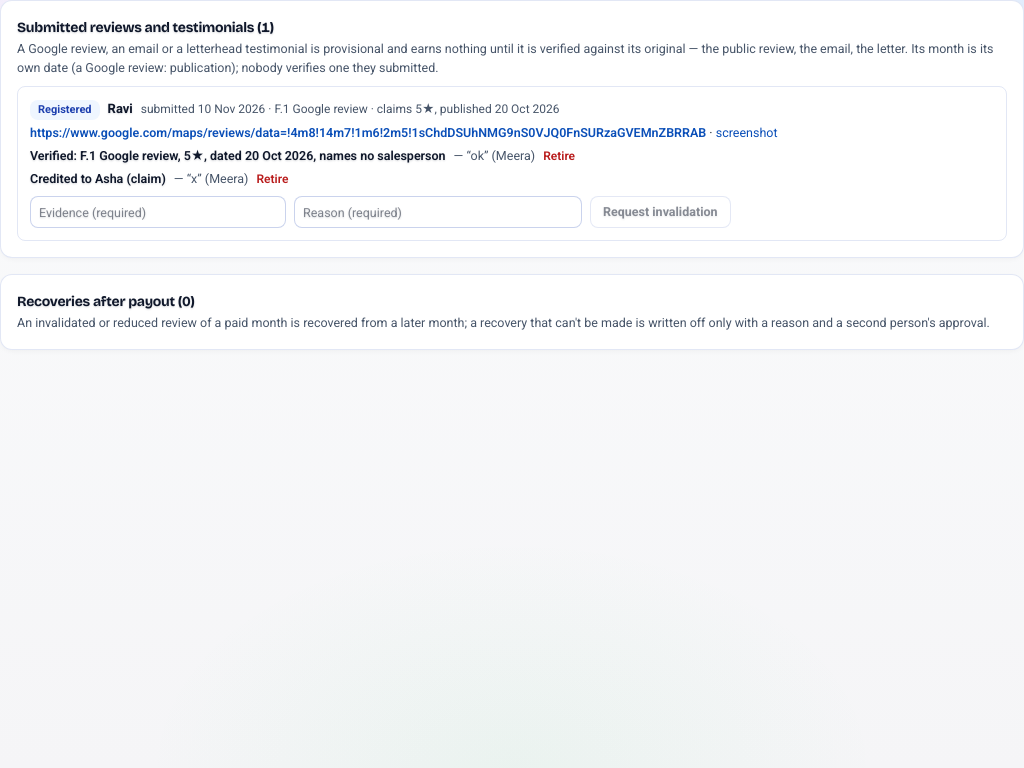
Test: Category F review screen: refusals (a right missing or removed after the page opened) › invalidation request and decision refused: message shown, buttons usable again, reason and evidence kept
Later steps or results of the test are not shown.
In the field with placeholder "Evidence (required)": (158, 212) [30,196,286,228], type "https://files.example/removed.png"
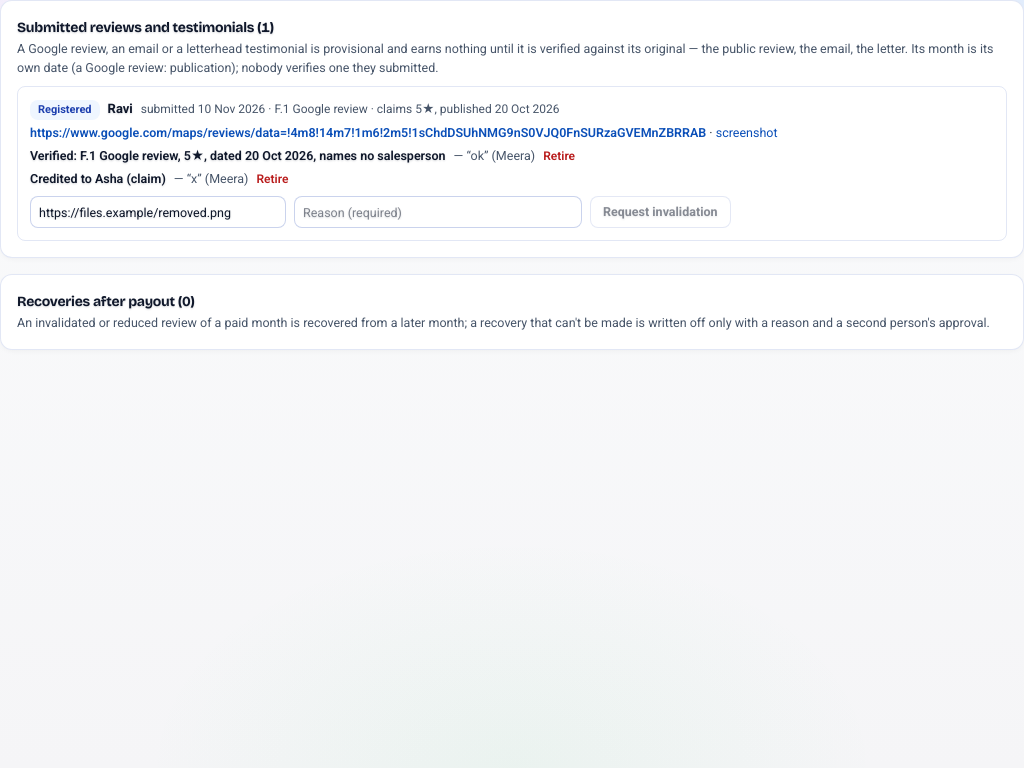
In the field with placeholder "Reason (required)": (438, 212) [294,196,582,228], type "Removed by Google"
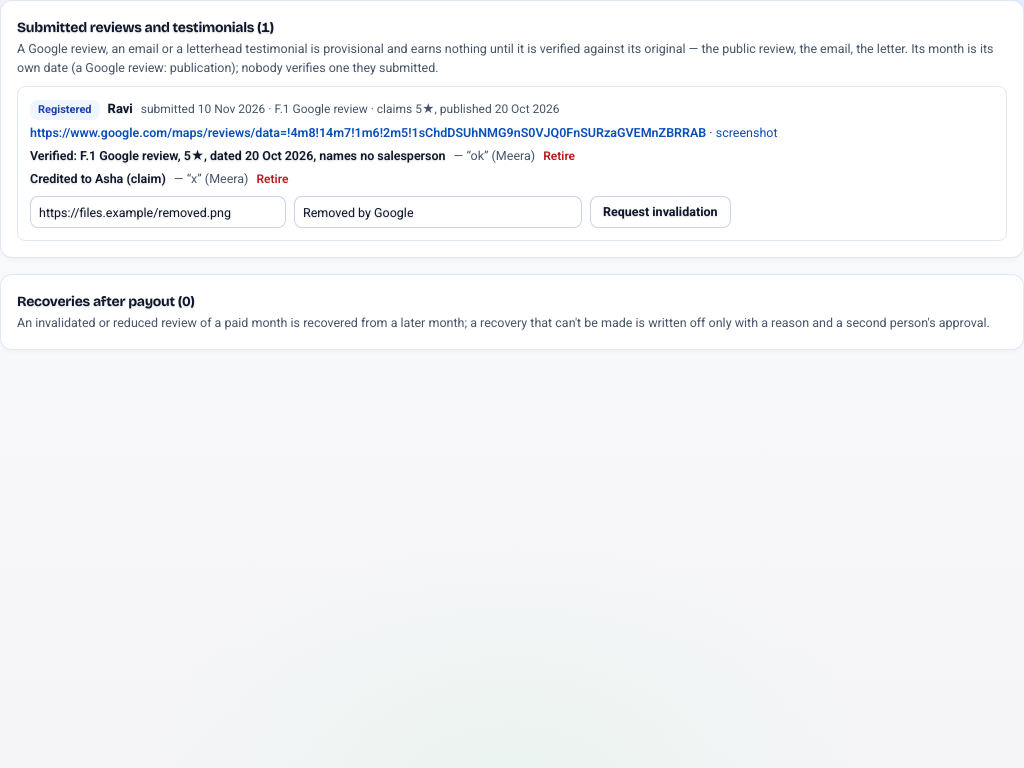
Click the button "Request invalidation": (660, 212) [590,196,730,228]
expect the button "Request invalidation" is enabled: met, box [590,196,730,228]
